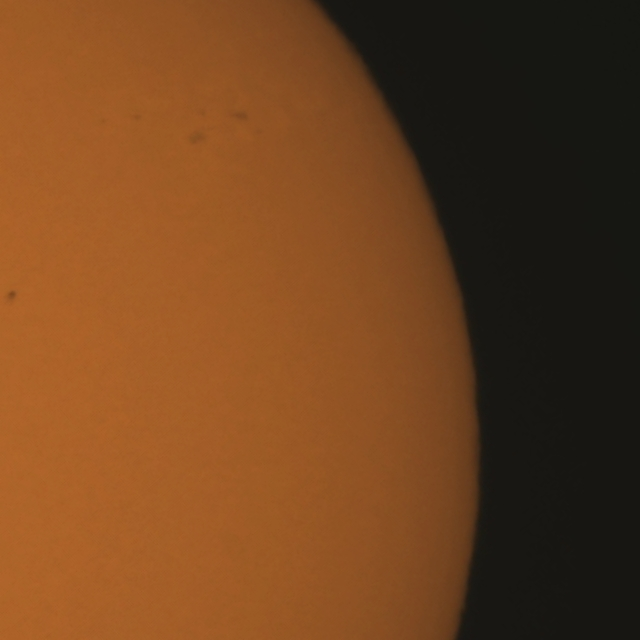sunspot: (2, 289, 18, 305)
